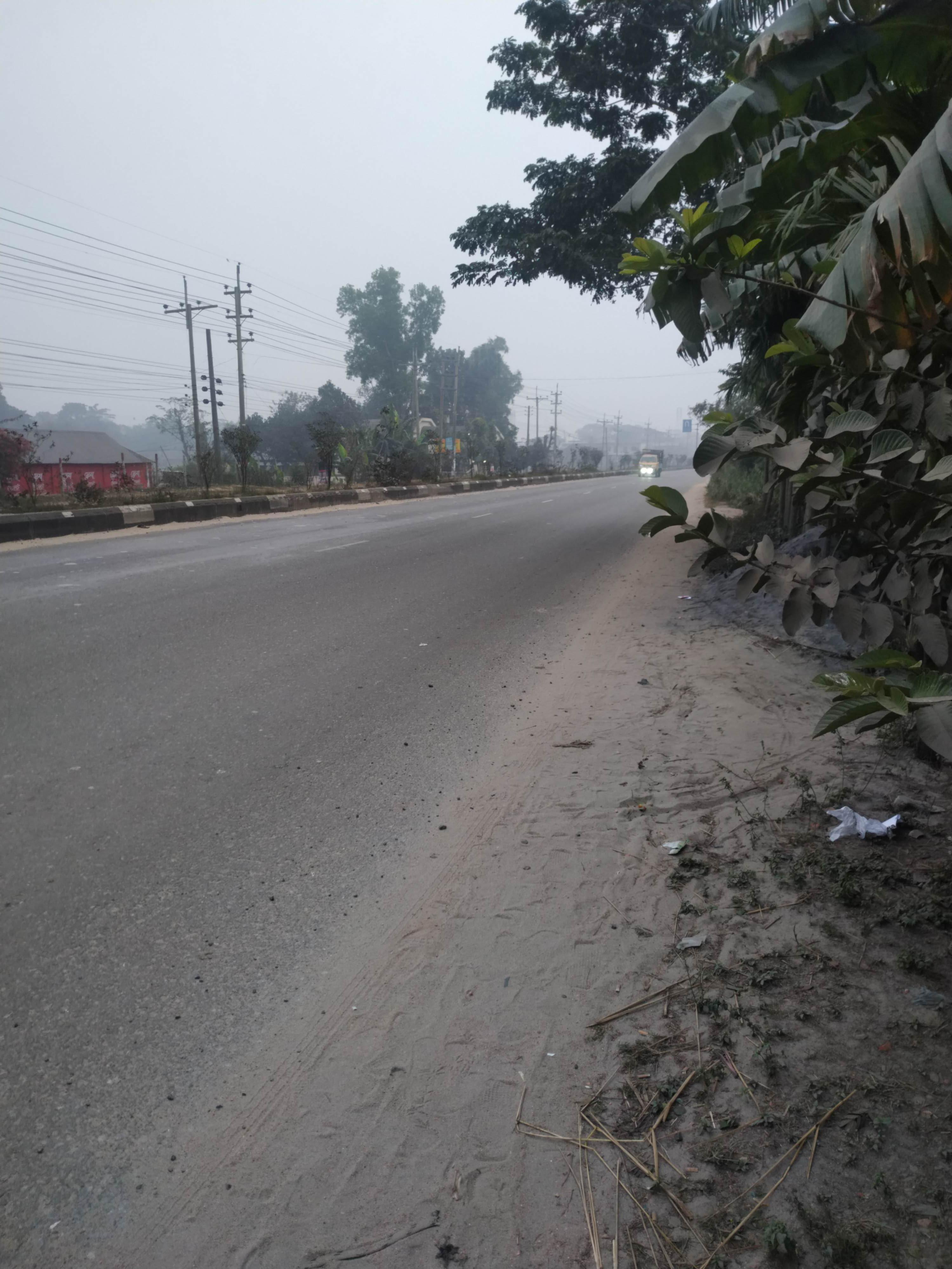Truck: (624, 445, 682, 486)
